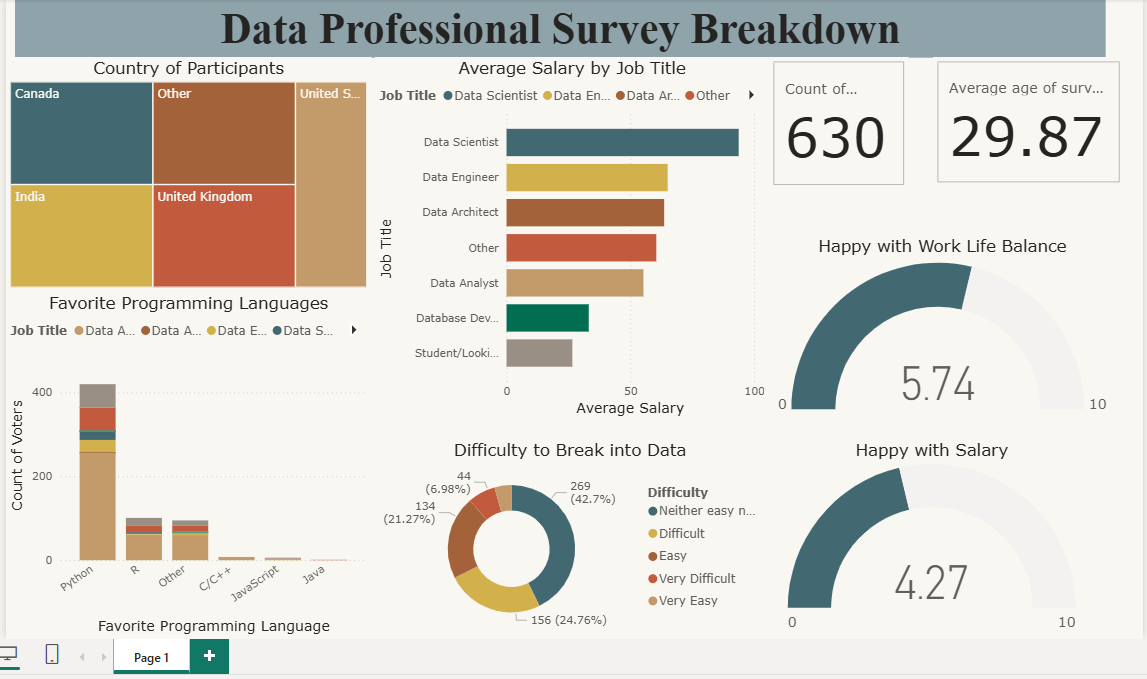

This screenshot's page, from the dashboard's own definition file:
{"tool":"powerbi","page":{"name":"Page 1","canvas":[1280,720],"ordinal":0},"visuals":[{"type":"textbox","box":[10.3,0,1227.3,65.5],"z":0},{"type":"cardVisual","fields":{"Data":["Count(Data Professional Survey.Unique ID)"]},"box":[858.8,65.3,157.2,149.8],"z":1000},{"type":"cardVisual","fields":{"Data":["Avg(Data Professional Survey.Q10 - Current Age)"]},"box":[1042.7,65.3,215.1,146.8],"z":2000},{"type":"barChart","title":"Average Salary by Job Title","fields":{"Category":["Data Professional Survey.Q1 - Which Title Best Fits your Current Role?.1"],"Y":["Avg(Data Professional Survey.Average Salary)"],"Series":["Data Professional Survey.Q1 - Which Title Best Fits your Current Role?.1"]},"box":[415.3,65.3,443.5,409.4],"z":3000},{"type":"columnChart","title":"Favorite Programming Languages","fields":{"Category":["Data Professional Survey.Q5 - Favorite Programming Language.1"],"Y":["CountNonNull(Data Professional Survey.Unique ID)"],"Series":["Data Professional Survey.Q1 - Which Title Best Fits your Current Role?.1"]},"box":[0,329.3,410.8,390.1],"z":4000},{"type":"treemap","title":"Country of Participants","fields":{"Group":["Data Professional Survey.Q11 - Which Country do you live in?.1"],"Values":["Count(Data Professional Survey.Q11 - Which Country do you live in?.1)"]},"box":[0,65.3,410.8,264],"z":5000},{"type":"gauge","title":"Happy with Salary","fields":{"Y":["Avg(Data Professional Survey.Q6 - How Happy are you in your Current Position with the following? (Salary))"],"MinValue":["Min(Data Professional Survey.Q6 - How Happy are you in your Current Position with the following? (Salary))1"],"MaxValue":["Max(Data Professional Survey.Q6 - How Happy are you in your Current Position with the following? (Salary))2"]},"box":[858.8,495.4,366.3,224],"z":6000},{"type":"gauge","title":"Happy with Work Life Balance","fields":{"Y":["Avg(Data Professional Survey.Q6 - How Happy are you in your Current Position with the following? (Work/Life Balance))"],"MinValue":["Min(Data Professional Survey.Q6 - How Happy are you in your Current Position with the following? (Work/Life Balance))1"],"MaxValue":["Max(Data Professional Survey.Q6 - How Happy are you in your Current Position with the following? (Work/Life Balance))2"]},"box":[858.8,265.5,390.1,209.1],"z":7000},{"type":"donutChart","title":"Difficulty to Break into Data","fields":{"Category":["Data Professional Survey.Q7 - How difficult was it for you to break into Data?"],"Y":["CountNonNull(Data Professional Survey.Q7 - How difficult was it for you to break into Data?)"]},"box":[410.8,495.4,447.9,224],"z":8000}]}

Visuals, with their boxes on the page's 1280x720 design canvas (x1, y1, x2, y2). These are canvas units, not pixel positions in the 1147x679 screenshot, which may show the page scaled, cropped or inside an application window:
textbox: [10,0,1238,66]
cardVisual - Count(Data Professional Survey.Unique ID): [859,65,1016,215]
cardVisual - Avg(Data Professional Survey.Q10 - Current Age): [1043,65,1258,212]
"Average Salary by Job Title" barChart: [415,65,859,475]
"Favorite Programming Languages" columnChart: [0,329,411,719]
"Country of Participants" treemap: [0,65,411,329]
"Happy with Salary" gauge: [859,495,1225,719]
"Happy with Work Life Balance" gauge: [859,266,1249,475]
"Difficulty to Break into Data" donutChart: [411,495,859,719]
